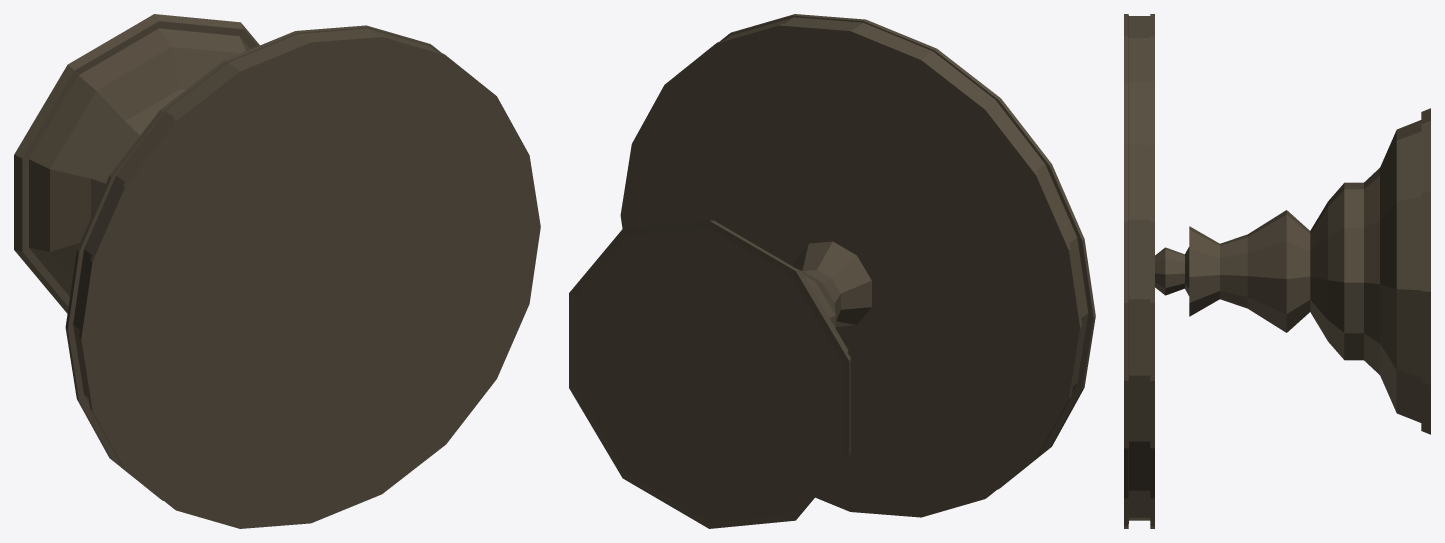
The model's file is table-round-small.obj.
3 views of the same model, side by side, from view 1: azimuth 30°, elevation 25°; view 2: azimuth 150°, elevation 25°; view 3: azimuth 270°, elevation 25° (orthographic). The views are drawn at different scales.
Parts seen in each view (by area): view 1: table-round-small; view 2: table-round-small; view 3: table-round-small.
Boxes of the visible parts, x1,y1,x2,y2 form: table-round-small: [14, 14, 540, 528]; table-round-small: [569, 14, 1095, 528]; table-round-small: [1124, 14, 1430, 528].
Bounding box in the file's own units: 50.75 × 50.75 × 30.
